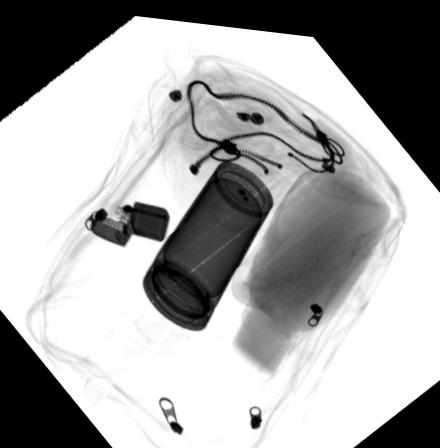Lighter: (90, 197, 170, 244)
